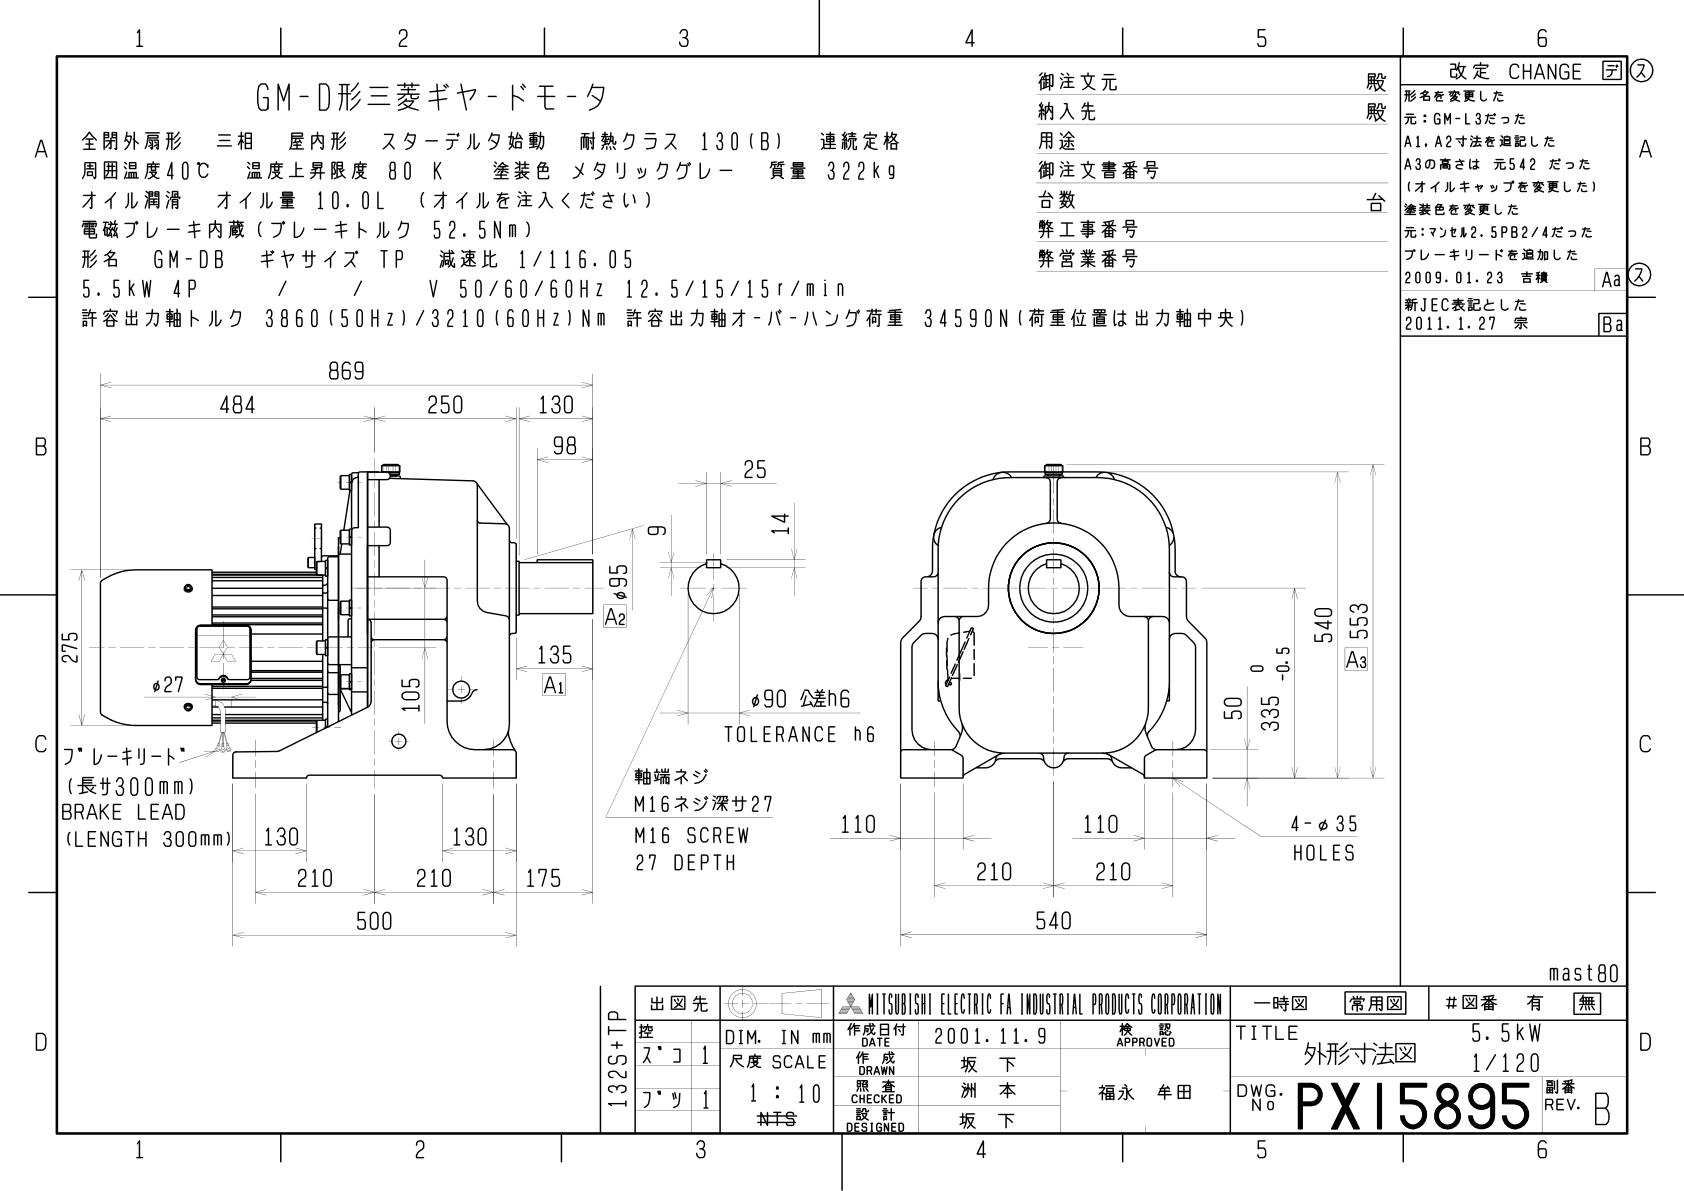GM_D_屋内＿三相_脚: (55, 335, 1395, 967)
